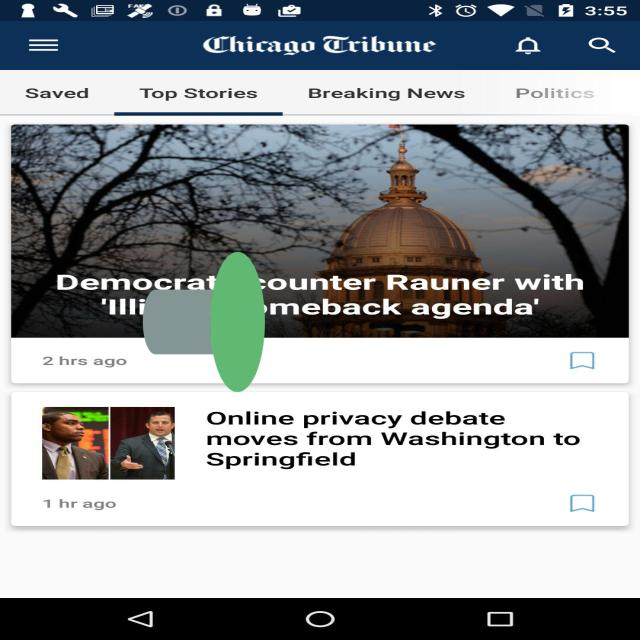social proof: (143, 166, 265, 478)
